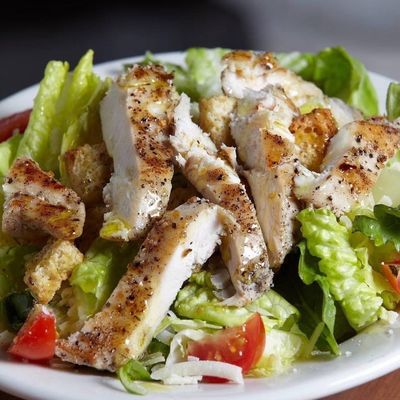curry: (277, 45, 381, 119), (169, 47, 228, 101)
